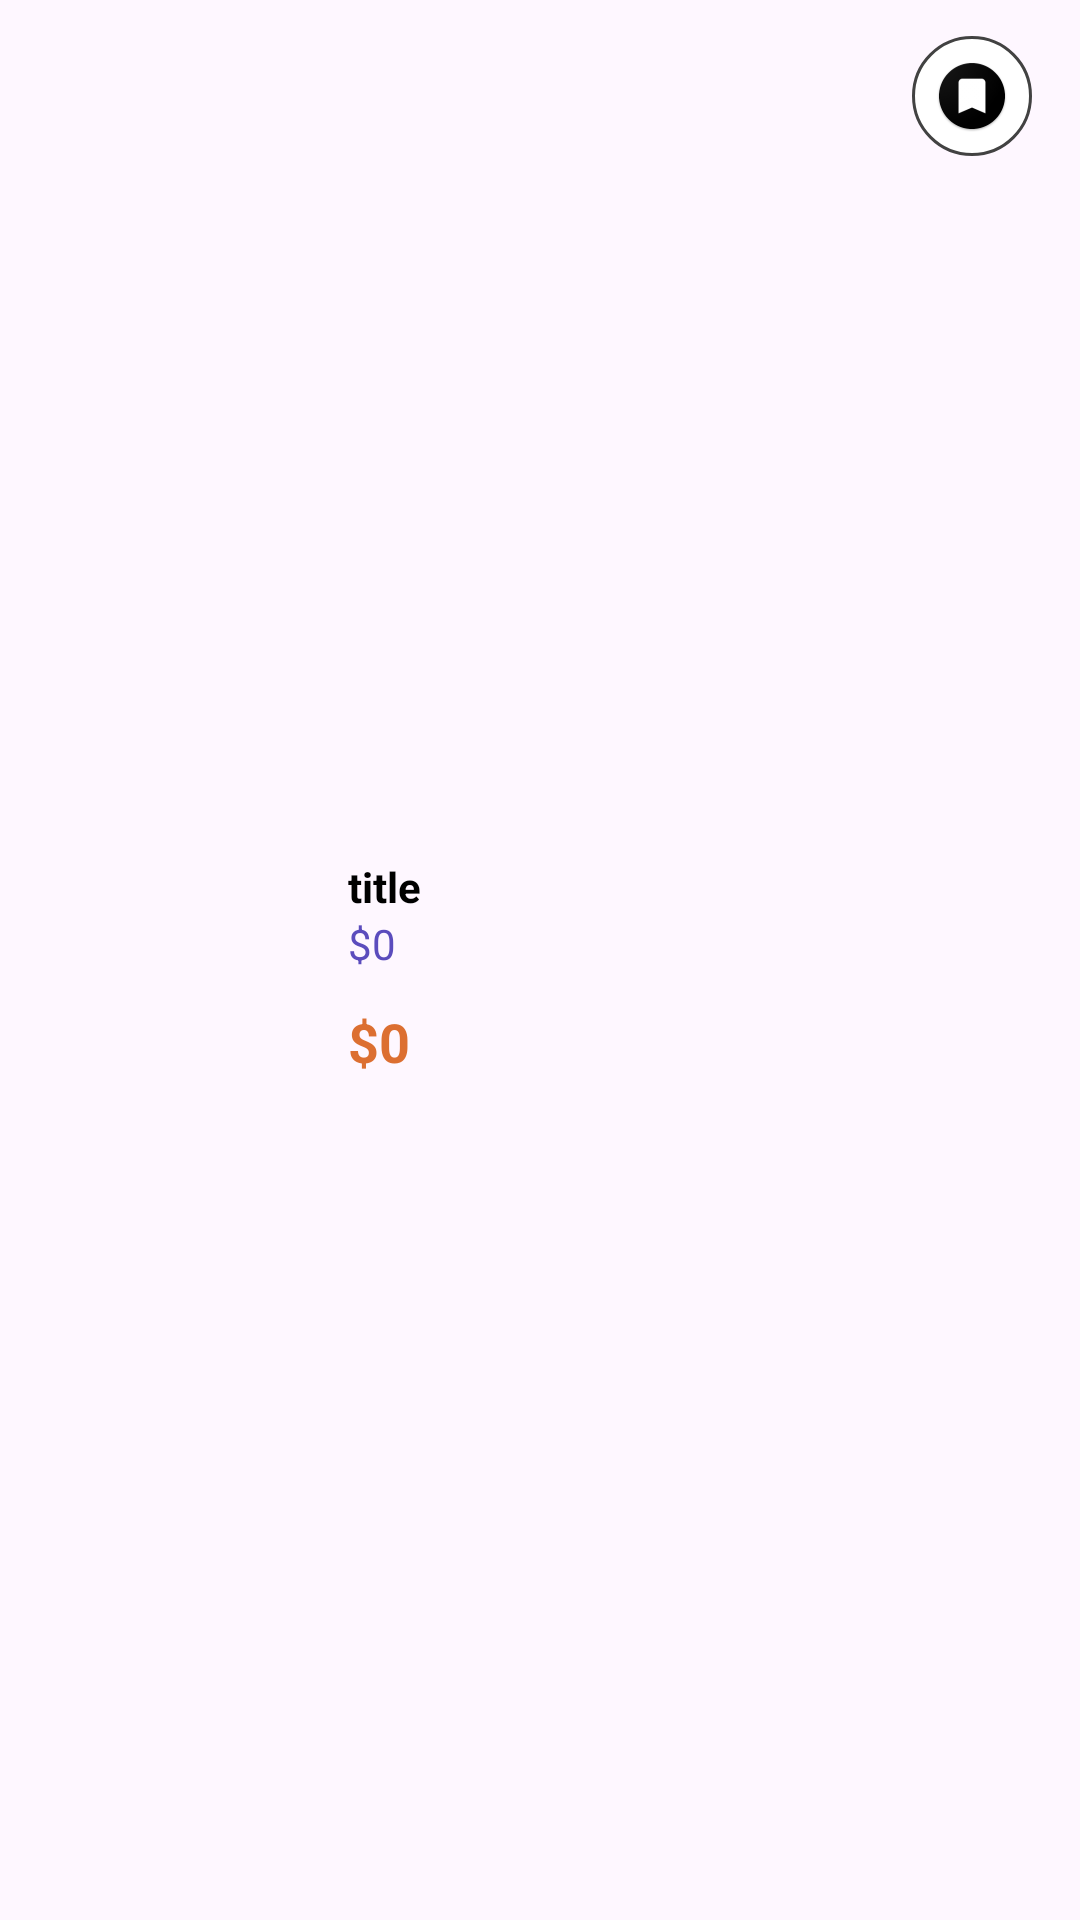

Named icons in this screenshot (1080×1920) and their centers, point (x, y):
fav: point (972, 96)
